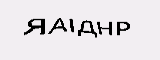Б: (73, 22, 89, 43)
К: (93, 22, 114, 46)
Л: (117, 24, 132, 46)
Р: (56, 20, 73, 44)
Ш: (27, 27, 54, 43)
